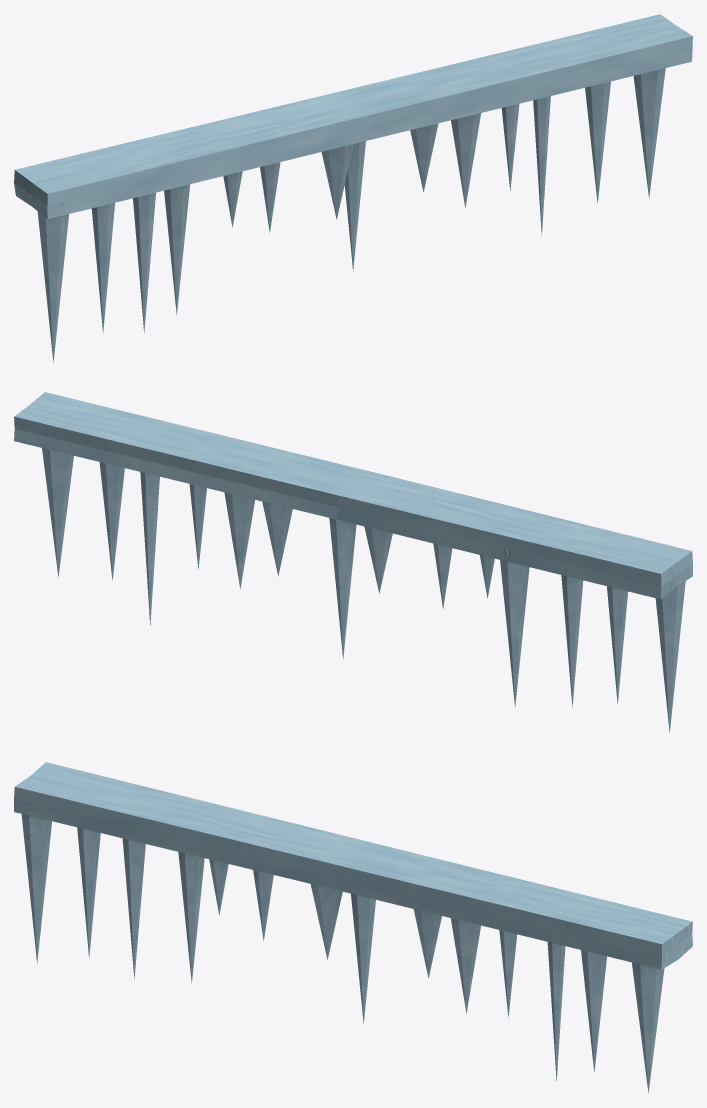
File: snow_icicles.glb
3 renders of one model, top to bottom at view 1: azimuth 30°, elevation 25°; view 2: azimuth 150°, elevation 25°; view 3: azimuth 330°, elevation 25°, orthographic.
Visible parts, largest first — view 1: snow_icicles; view 2: snow_icicles; view 3: snow_icicles.
Boxes of the visible parts, box(x1,y1,x2,y2) form: snow_icicles: box(14, 14, 692, 363); snow_icicles: box(14, 392, 692, 732); snow_icicles: box(14, 762, 692, 1093).
Size of the model in its own units: 2.11 by 0.5815 by 0.1843.
Materials: 1 (1 with a texture image).
